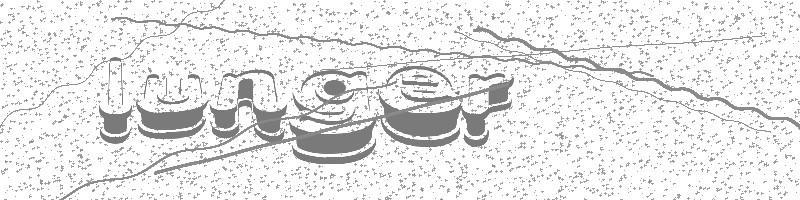e: (378, 63, 462, 149)
g: (289, 67, 379, 165)
l: (97, 53, 134, 144)
n: (209, 66, 289, 140)
r: (462, 70, 517, 149)
u: (134, 68, 209, 141)
